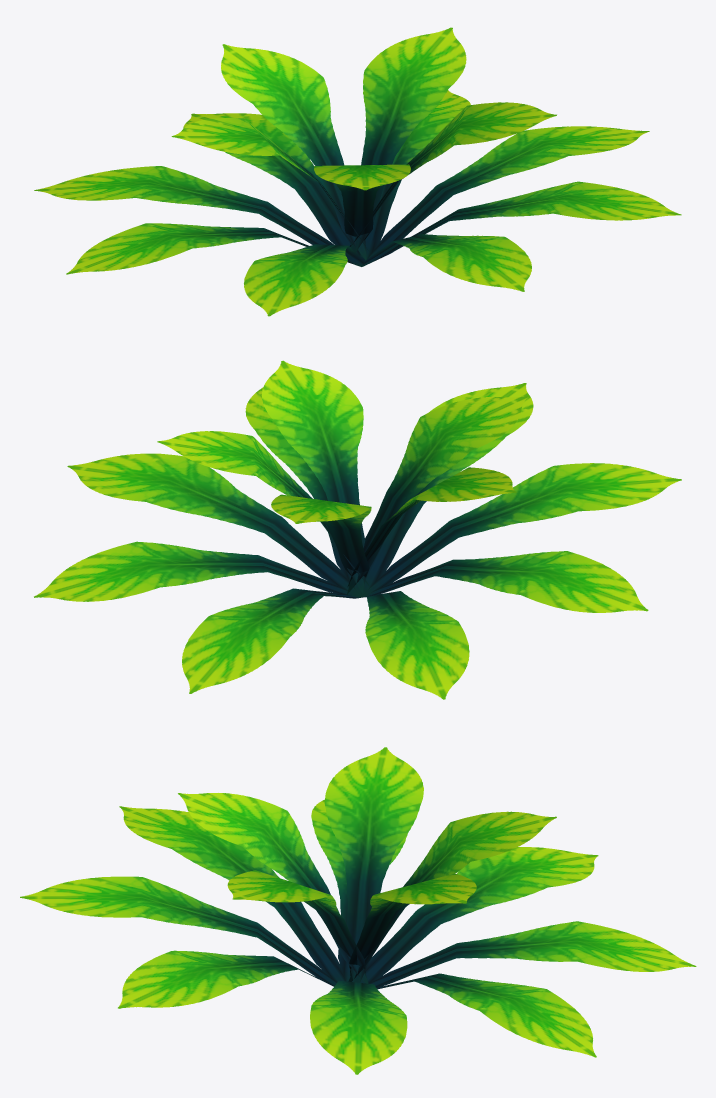
Rendered from Green_Bush_03.FBX.
3 renders of one model, top to bottom at view 1: azimuth 30°, elevation 25°; view 2: azimuth 150°, elevation 25°; view 3: azimuth 270°, elevation 25°, orthographic.
Parts seen in each view (by area): view 1: Green_Bush_03; view 2: Green_Bush_03; view 3: Green_Bush_03.
Boxes of the visible parts, bbox=[...] form: Green_Bush_03: bbox=[34, 27, 681, 316]; Green_Bush_03: bbox=[34, 360, 681, 699]; Green_Bush_03: bbox=[20, 747, 696, 1074].
Bounding box in the file's own units: 135 × 35.32 × 134.
